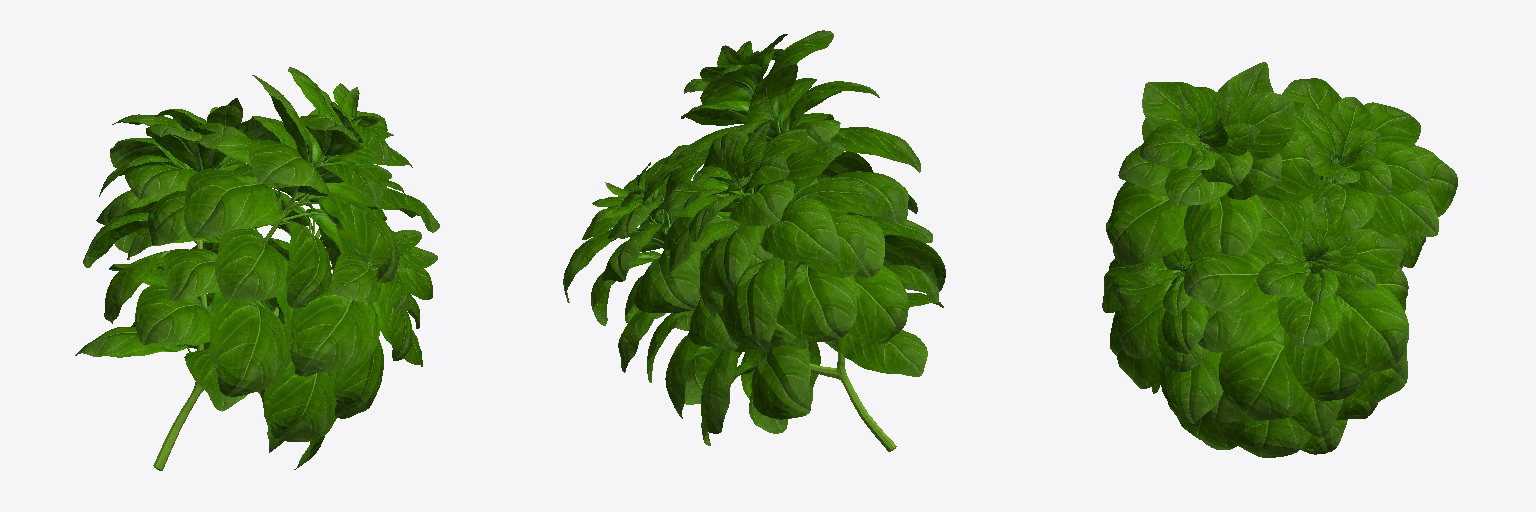
3 renders of one model, left to right at view 1: azimuth 30°, elevation 25°; view 2: azimuth 150°, elevation 25°; view 3: azimuth 270°, elevation 25°, orthographic.
Parts seen in each view (by area): view 1: Mesh63 G_3DGeom_1 Group2 cgaxis_models_50_07_01 Group1 Composant, Mesh205 G_3DGeom_1 Group2 cgaxis_models_50_07_01 Group1 Composan, Mesh43 G_3DGeom_1 Group2 cgaxis_models_50_07_01 Group1 Composant, Mesh213 G_3DGeom_1 Group2 cgaxis_models_50_07_01 Group1 Composan, Mesh53 G_3DGeom_1 Group2 cgaxis_models_50_07_01 Group1 Composant, Mesh67 G_3DGeom_1 Group2 cgaxis_models_50_07_01 Group1 Composant, Mesh37 G_3DGeom_1 Group2 cgaxis_models_50_07_01 Group1 Composant, Mesh47 G_3DGeom_1 Group2 cgaxis_models_50_07_01 Group1 Composant, Mesh35 G_3DGeom_1 Group2 cgaxis_models_50_07_01 Group1 Composant, Mesh61 G_3DGeom_1 Group2 cgaxis_models_50_07_01 Group1 Composant, Mesh209 G_3DGeom_1 Group2 cgaxis_models_50_07_01 Group1 Composan, Mesh173 G_3DGeom_1 Group2 cgaxis_models_50_07_01 Group1 Composan (+28 smaller); view 2: Mesh189 G_3DGeom_1 Group2 cgaxis_models_50_07_01 Group1 Composan, Mesh187 G_3DGeom_1 Group2 cgaxis_models_50_07_01 Group1 Composan, Mesh179 G_3DGeom_1 Group2 cgaxis_models_50_07_01 Group1 Composan, Mesh135 G_3DGeom_1 Group2 cgaxis_models_50_07_01 Group1 Composan, Mesh191 G_3DGeom_1 Group2 cgaxis_models_50_07_01 Group1 Composan, Mesh105 G_3DGeom_1 Group2 cgaxis_models_50_07_01 Group1 Composan, Mesh71 G_3DGeom_1 Group2 cgaxis_models_50_07_01 Group1 Composant, Mesh175 G_3DGeom_1 Group2 cgaxis_models_50_07_01 Group1 Composan, Mesh129 G_3DGeom_1 Group2 cgaxis_models_50_07_01 Group1 Composan, Mesh51 G_3DGeom_1 Group2 cgaxis_models_50_07_01 Group1 Composant, Mesh43 G_3DGeom_1 Group2 cgaxis_models_50_07_01 Group1 Composant, Mesh185 G_3DGeom_1 Group2 cgaxis_models_50_07_01 Group1 Composan (+28 smaller); view 3: Mesh113 G_3DGeom_1 Group2 cgaxis_models_50_07_01 Group1 Composan, Mesh99 G_3DGeom_1 Group2 cgaxis_models_50_07_01 Group1 Composant, Mesh37 G_3DGeom_1 Group2 cgaxis_models_50_07_01 Group1 Composant, Mesh97 G_3DGeom_1 Group2 cgaxis_models_50_07_01 Group1 Composant, Mesh31 G_3DGeom_1 Group2 cgaxis_models_50_07_01 Group1 Composant, Mesh107 G_3DGeom_1 Group2 cgaxis_models_50_07_01 Group1 Composan, Mesh207 G_3DGeom_1 Group2 cgaxis_models_50_07_01 Group1 Composan, Mesh19 G_3DGeom_1 Group2 cgaxis_models_50_07_01 Group1 Composant, Mesh91 G_3DGeom_1 Group2 cgaxis_models_50_07_01 Group1 Composant, Mesh125 G_3DGeom_1 Group2 cgaxis_models_50_07_01 Group1 Composan, Mesh169 G_3DGeom_1 Group2 cgaxis_models_50_07_01 Group1 Composan, Mesh33 G_3DGeom_1 Group2 cgaxis_models_50_07_01 Group1 Composant (+28 smaller).
Boxes of the visible parts, x1,y1,x2,y2 form: Mesh63 G_3DGeom_1 Group2 cgaxis_models_50_07_01 Group1 Composant: [210, 293, 290, 396]; Mesh205 G_3DGeom_1 Group2 cgaxis_models_50_07_01 Group1 Composan: [290, 274, 379, 371]; Mesh43 G_3DGeom_1 Group2 cgaxis_models_50_07_01 Group1 Composant: [184, 168, 285, 237]; Mesh213 G_3DGeom_1 Group2 cgaxis_models_50_07_01 Group1 Composan: [264, 342, 336, 441]; Mesh53 G_3DGeom_1 Group2 cgaxis_models_50_07_01 Group1 Composant: [215, 229, 288, 302]; Mesh67 G_3DGeom_1 Group2 cgaxis_models_50_07_01 Group1 Composant: [135, 285, 210, 345]; Mesh37 G_3DGeom_1 Group2 cgaxis_models_50_07_01 Group1 Composant: [309, 197, 399, 282]; Mesh47 G_3DGeom_1 Group2 cgaxis_models_50_07_01 Group1 Composant: [286, 220, 331, 307]; Mesh35 G_3DGeom_1 Group2 cgaxis_models_50_07_01 Group1 Composant: [249, 139, 330, 195]; Mesh61 G_3DGeom_1 Group2 cgaxis_models_50_07_01 Group1 Composant: [163, 249, 220, 300]; Mesh209 G_3DGeom_1 Group2 cgaxis_models_50_07_01 Group1 Composan: [334, 340, 383, 418]; Mesh173 G_3DGeom_1 Group2 cgaxis_models_50_07_01 Group1 Composan: [146, 124, 225, 171]; Mesh189 G_3DGeom_1 Group2 cgaxis_models_50_07_01 Group1 Composan: [777, 263, 856, 341]; Mesh187 G_3DGeom_1 Group2 cgaxis_models_50_07_01 Group1 Composan: [723, 257, 785, 351]; Mesh179 G_3DGeom_1 Group2 cgaxis_models_50_07_01 Group1 Composan: [760, 198, 839, 263]; Mesh135 G_3DGeom_1 Group2 cgaxis_models_50_07_01 Group1 Composan: [751, 345, 810, 419]; Mesh191 G_3DGeom_1 Group2 cgaxis_models_50_07_01 Group1 Composan: [848, 266, 908, 344]; Mesh105 G_3DGeom_1 Group2 cgaxis_models_50_07_01 Group1 Composan: [634, 249, 700, 313]; Mesh71 G_3DGeom_1 Group2 cgaxis_models_50_07_01 Group1 Composant: [836, 330, 927, 376]; Mesh175 G_3DGeom_1 Group2 cgaxis_models_50_07_01 Group1 Composan: [700, 224, 766, 296]; Mesh129 G_3DGeom_1 Group2 cgaxis_models_50_07_01 Group1 Composan: [701, 351, 741, 433]; Mesh51 G_3DGeom_1 Group2 cgaxis_models_50_07_01 Group1 Composant: [818, 171, 908, 223]; Mesh43 G_3DGeom_1 Group2 cgaxis_models_50_07_01 Group1 Composant: [830, 127, 920, 172]; Mesh185 G_3DGeom_1 Group2 cgaxis_models_50_07_01 Group1 Composan: [799, 214, 866, 277]; Mesh113 G_3DGeom_1 Group2 cgaxis_models_50_07_01 Group1 Composan: [1219, 323, 1312, 420]; Mesh99 G_3DGeom_1 Group2 cgaxis_models_50_07_01 Group1 Composant: [1323, 284, 1408, 372]; Mesh37 G_3DGeom_1 Group2 cgaxis_models_50_07_01 Group1 Composant: [1106, 181, 1187, 264]; Mesh97 G_3DGeom_1 Group2 cgaxis_models_50_07_01 Group1 Composant: [1184, 244, 1280, 317]; Mesh31 G_3DGeom_1 Group2 cgaxis_models_50_07_01 Group1 Composant: [1184, 195, 1263, 255]; Mesh107 G_3DGeom_1 Group2 cgaxis_models_50_07_01 Group1 Composan: [1284, 331, 1369, 400]; Mesh207 G_3DGeom_1 Group2 cgaxis_models_50_07_01 Group1 Composan: [1160, 351, 1223, 423]; Mesh19 G_3DGeom_1 Group2 cgaxis_models_50_07_01 Group1 Composant: [1236, 92, 1295, 160]; Mesh91 G_3DGeom_1 Group2 cgaxis_models_50_07_01 Group1 Composant: [1277, 294, 1341, 347]; Mesh125 G_3DGeom_1 Group2 cgaxis_models_50_07_01 Group1 Composan: [1222, 417, 1311, 457]; Mesh169 G_3DGeom_1 Group2 cgaxis_models_50_07_01 Group1 Composan: [1369, 190, 1438, 236]; Mesh33 G_3DGeom_1 Group2 cgaxis_models_50_07_01 Group1 Composant: [1256, 130, 1320, 202].
Size of the model in its own units: 44.81 by 48.28 by 41.24.
1 materials, 1 textured.